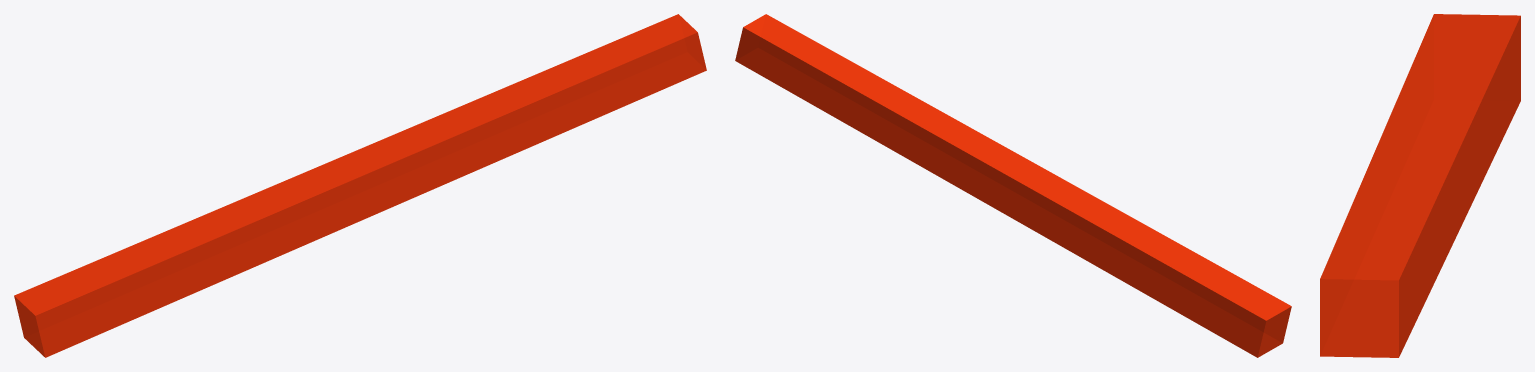
Rendered from Event_420107950_EErechit_33.fbx.
3 views of the same model, side by side, from view 1: azimuth 30°, elevation 25°; view 2: azimuth 150°, elevation 25°; view 3: azimuth 270°, elevation 25° (orthographic). The views are drawn at different scales.
Visible parts, largest first — view 1: Model; view 2: Model; view 3: Model.
Part boxes in pixels (bbox=[...]): Model: bbox=[14, 14, 706, 357]; Model: bbox=[735, 14, 1291, 357]; Model: bbox=[1320, 14, 1520, 357].
Bounding box in the file's own units: 1.18 × 0.3488 × 0.1841.
